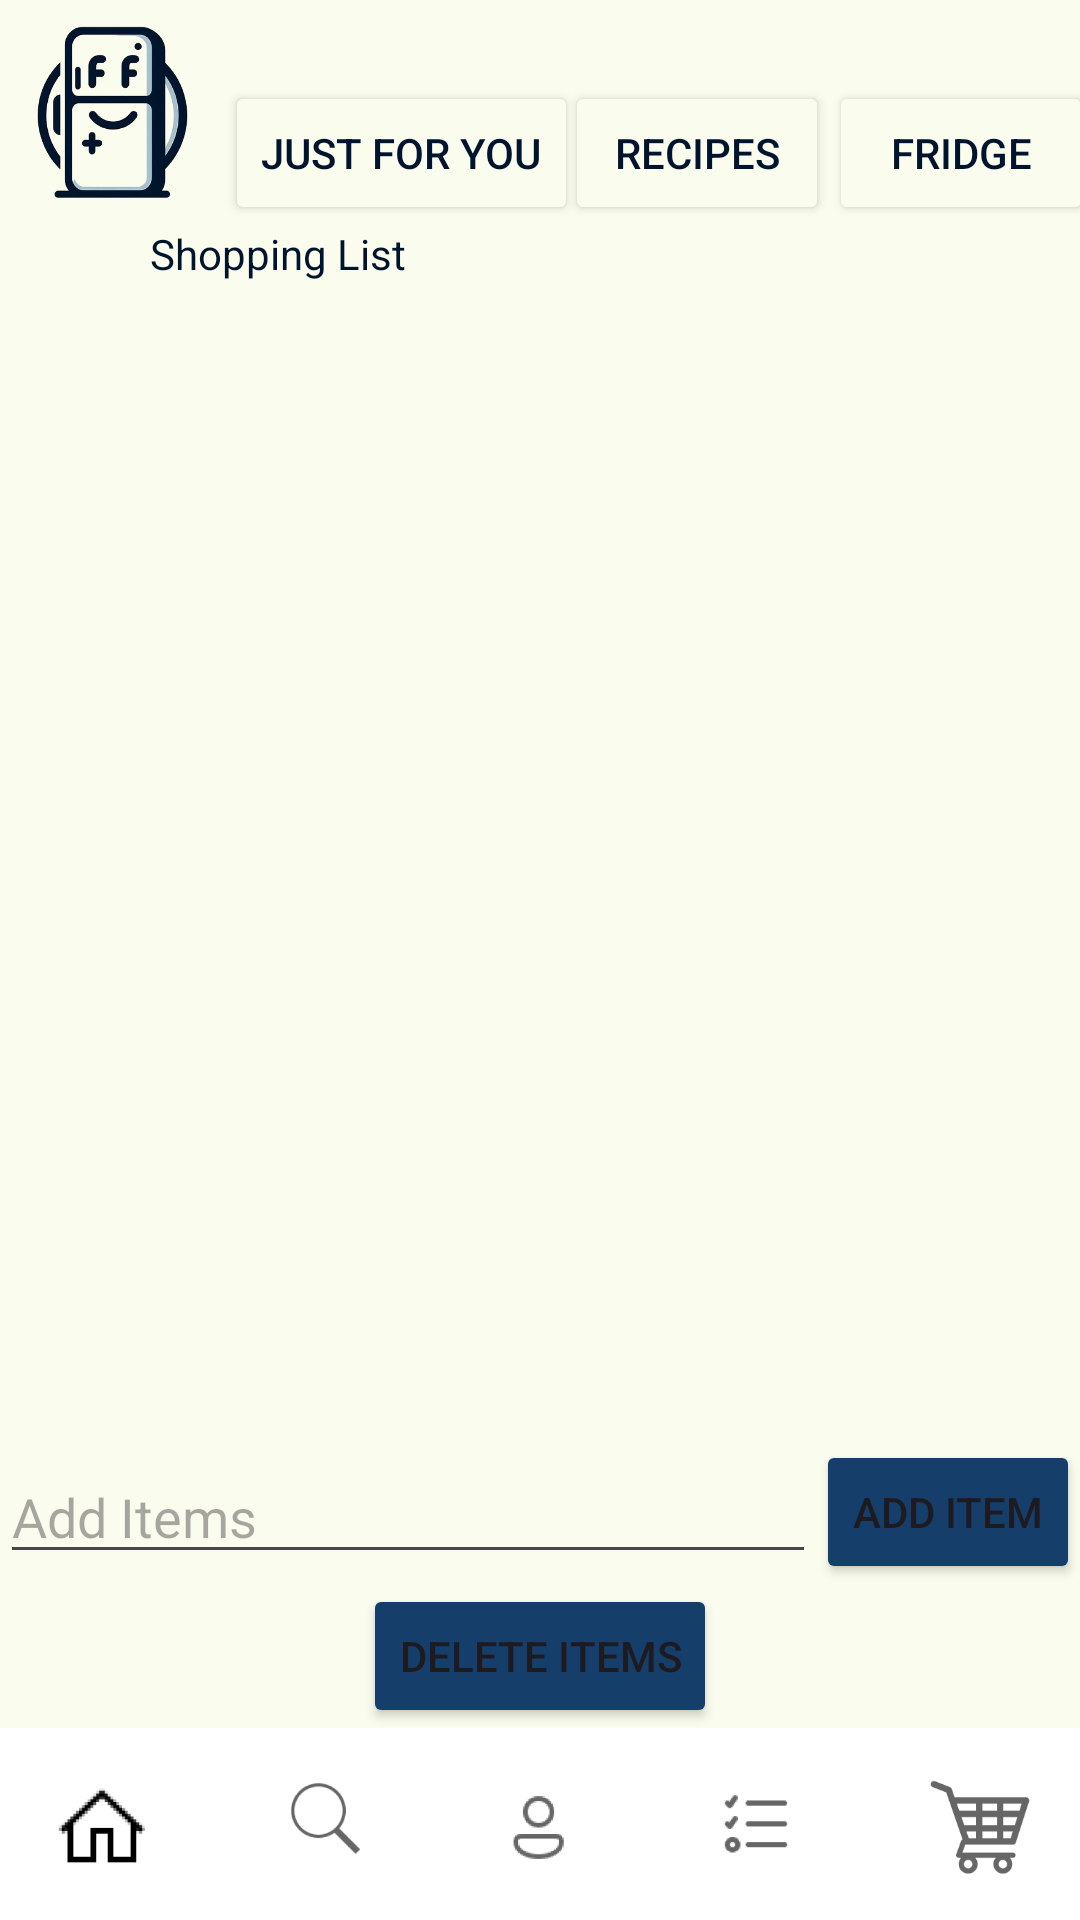

Icon click points for this 1080px×1920px phone screenshot, format point (x, y):
home: point (102, 1826)
list: point (756, 1824)
search: point (325, 1818)
shopping: point (980, 1827)
userapp: point (538, 1827)
